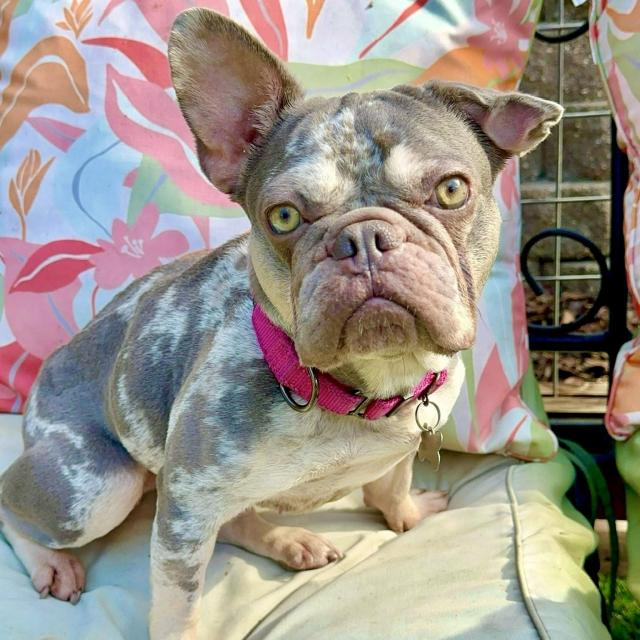french_bulldog_dog: (162, 6, 568, 390)
